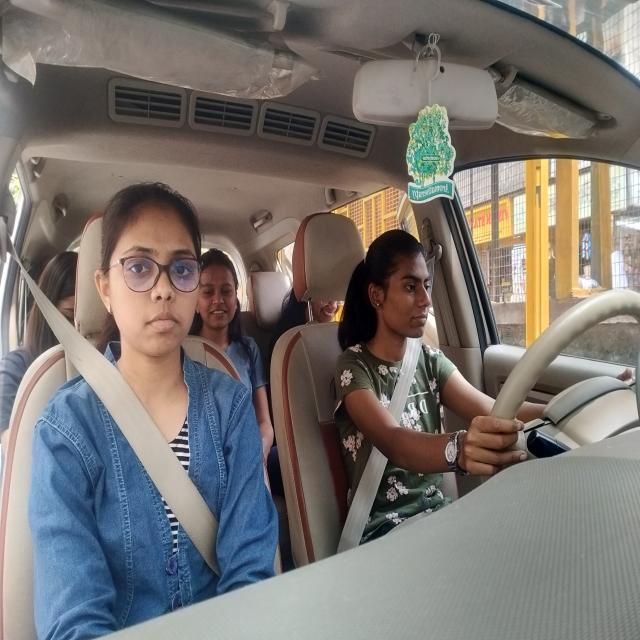person: (86, 202, 208, 370), (362, 242, 444, 345), (48, 222, 78, 345), (198, 253, 237, 335)
